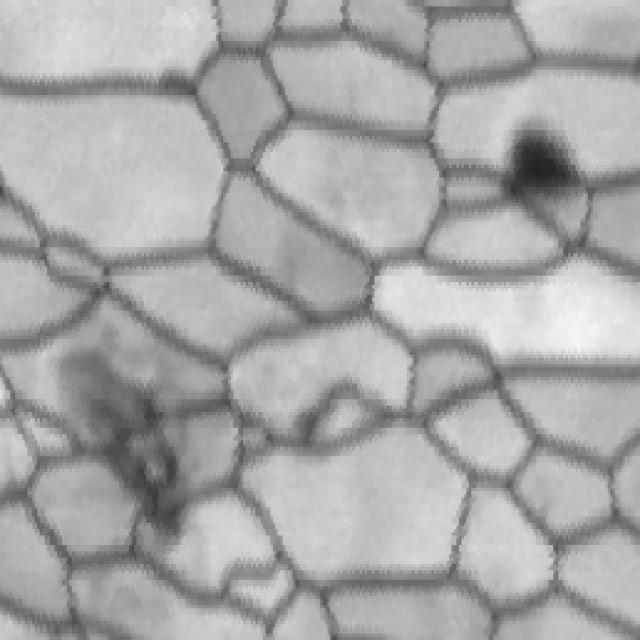good_void: (53, 347, 189, 549), (496, 118, 592, 202)
